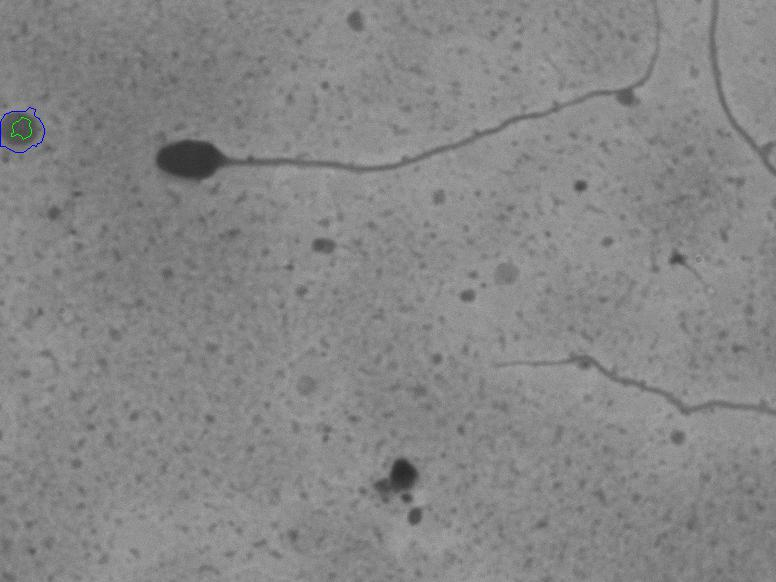Abnormal: (129, 15, 662, 216)
